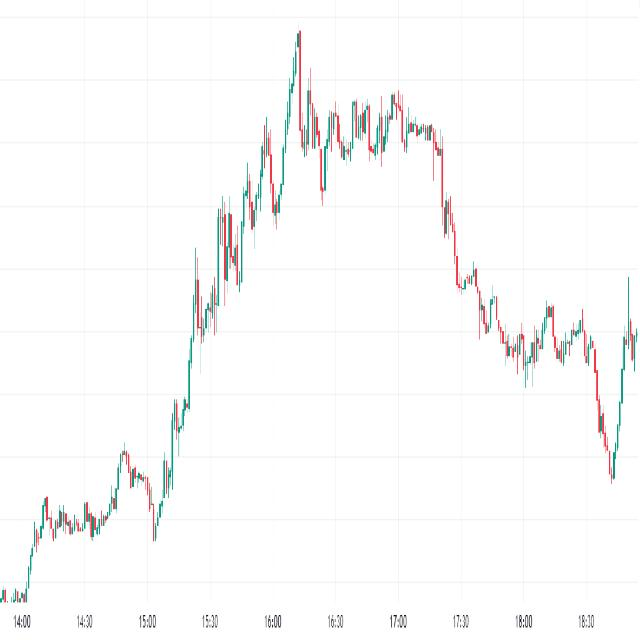Inverse-Head-Shoulders: (579, 306, 639, 487)
